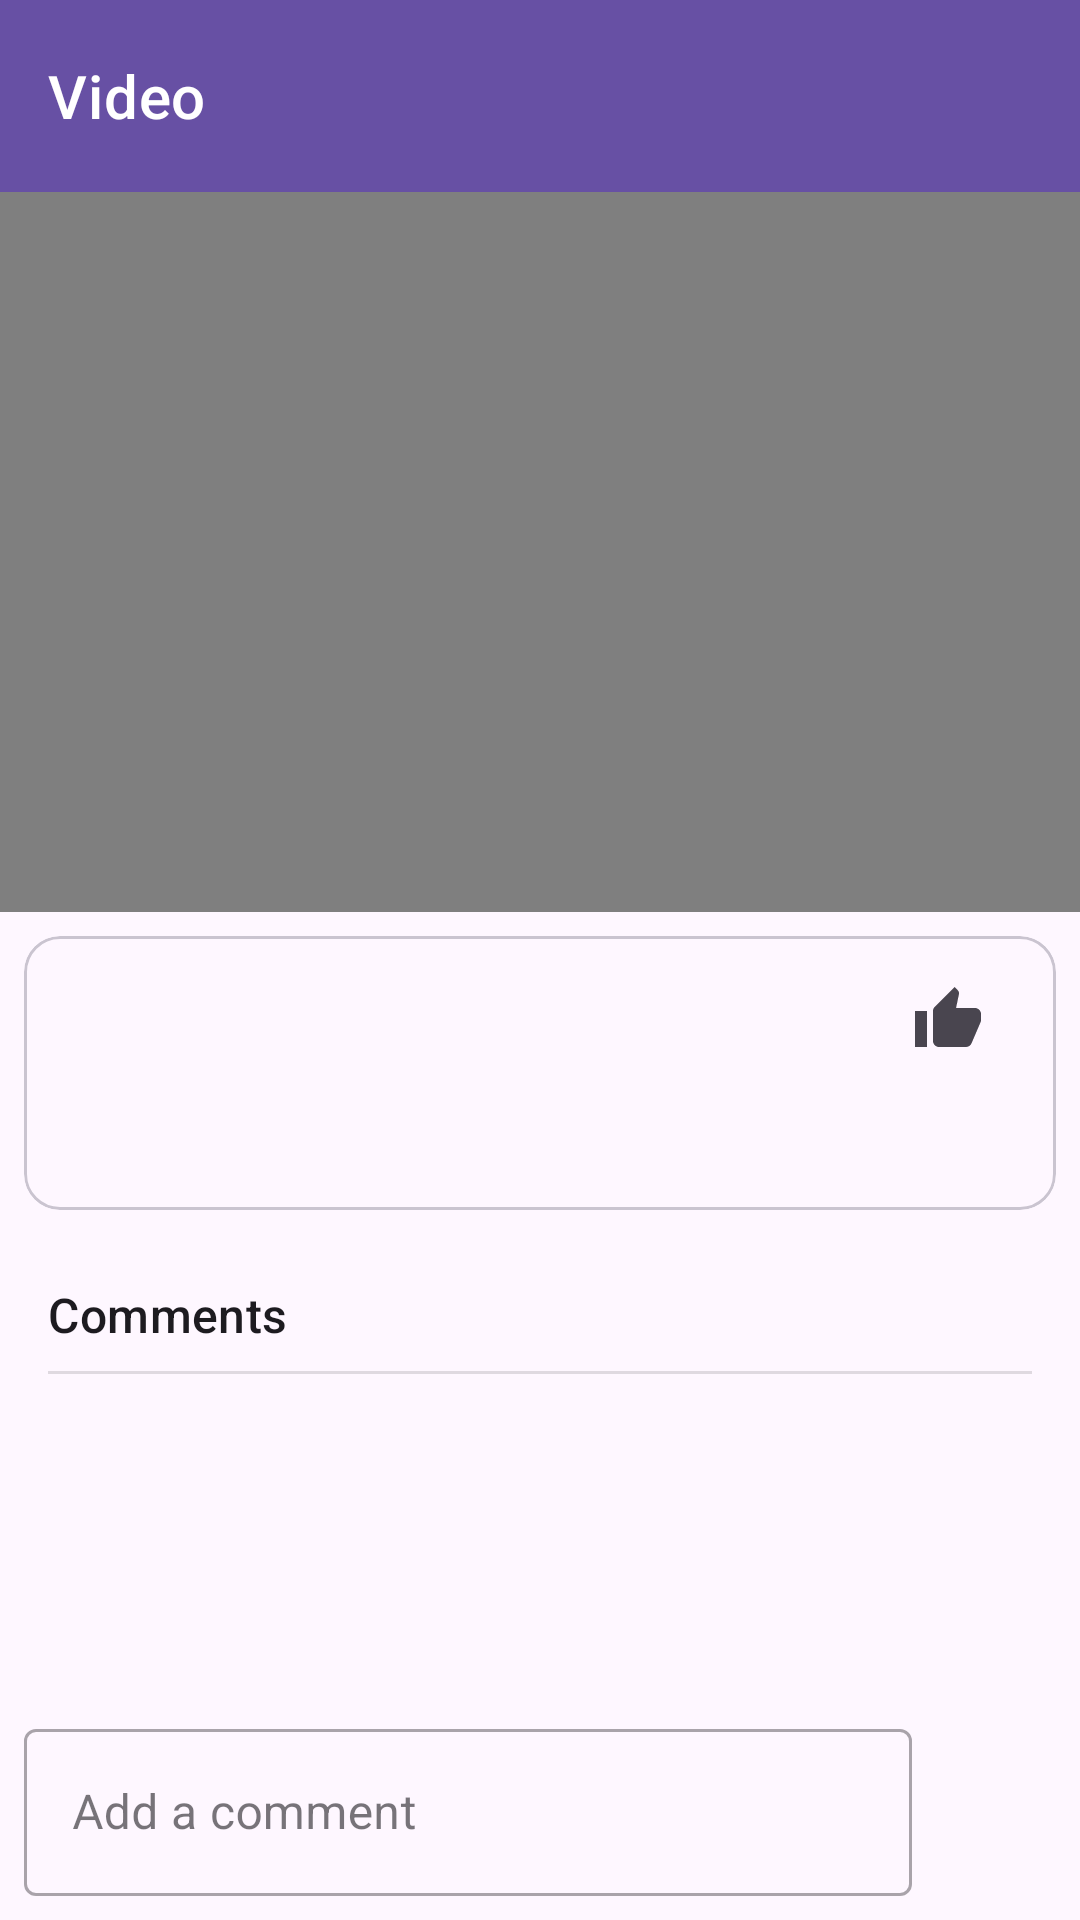

Where icons sit on this 1080px×1920px app screen, as (x1, y1, x2, y2):
Like button: (915, 987, 981, 1047)
